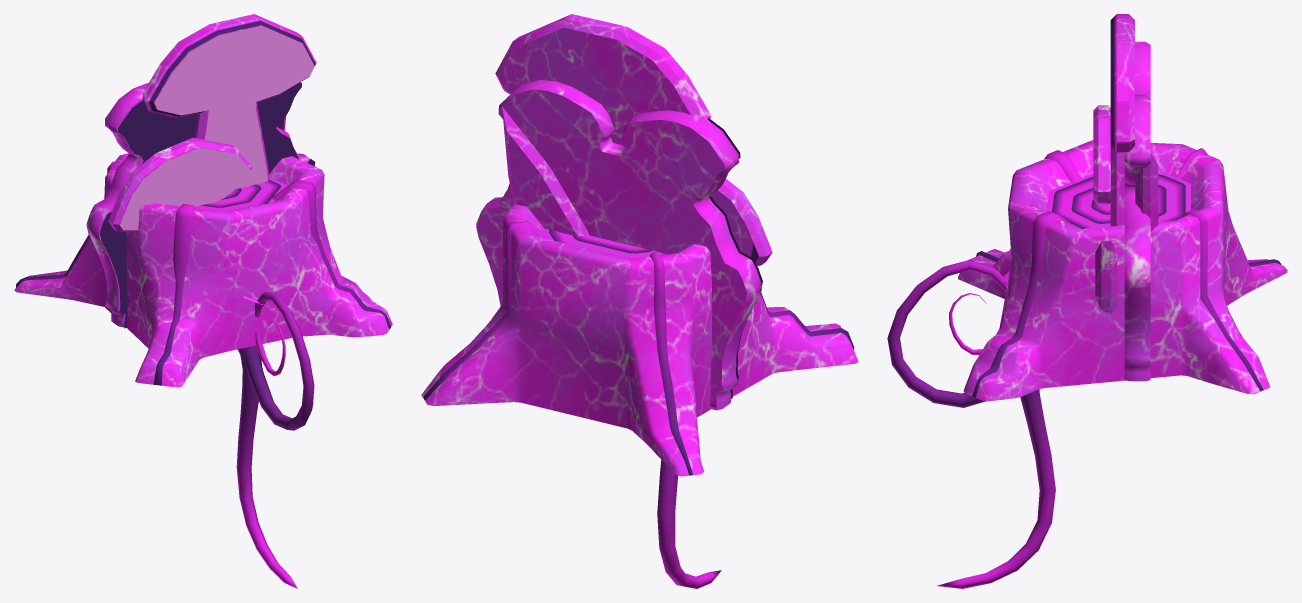
Rendered from Forest_propses.fbx.
The picture shows the model from 3 angles, left to right: view 1: azimuth 30°, elevation 25°; view 2: azimuth 150°, elevation 25°; view 3: azimuth 270°, elevation 25°; orthographic projection. The views are drawn at different scales.
Parts seen in each view (by area): view 1: Stump, Mushroom_standee, ROFL_Standee, Vines1, Vines2; view 2: Stump, ROFL_Standee, Mushroom_standee, Vines2; view 3: Stump, Mushroom_standee, ROFL_Standee, Vines2, Vines1.
Boxes of the visible parts, x1,y1,x2,y2 form: Stump: [14, 153, 392, 387]; Mushroom_standee: [108, 14, 316, 232]; ROFL_Standee: [86, 82, 315, 328]; Vines1: [244, 291, 314, 430]; Vines2: [236, 345, 297, 588]; Stump: [421, 202, 858, 476]; ROFL_Standee: [476, 80, 762, 410]; Mushroom_standee: [495, 14, 772, 265]; Vines2: [657, 460, 721, 588]; Stump: [958, 140, 1287, 401]; Mushroom_standee: [1093, 14, 1158, 314]; ROFL_Standee: [1124, 41, 1150, 381]; Vines2: [937, 389, 1055, 588]; Vines1: [887, 260, 1007, 407].
Size of the model in its own units: 2.77 by 5.27 by 3.38.
